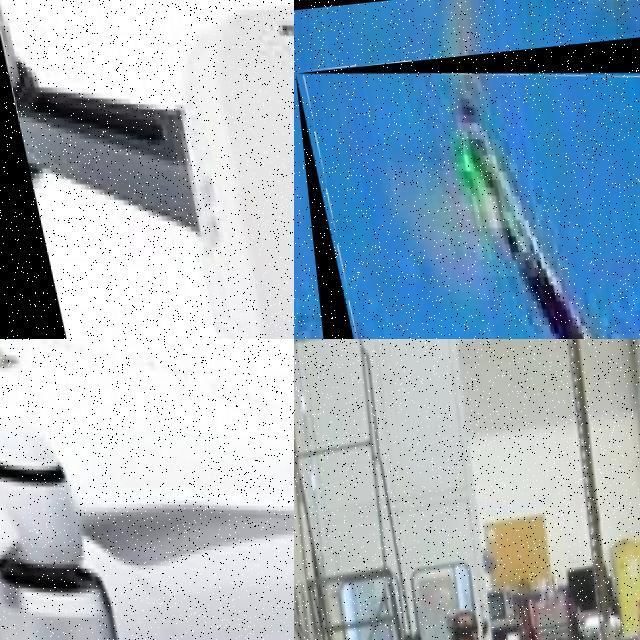drone: (295, 19, 640, 339), (0, 0, 294, 339), (0, 339, 294, 640)
